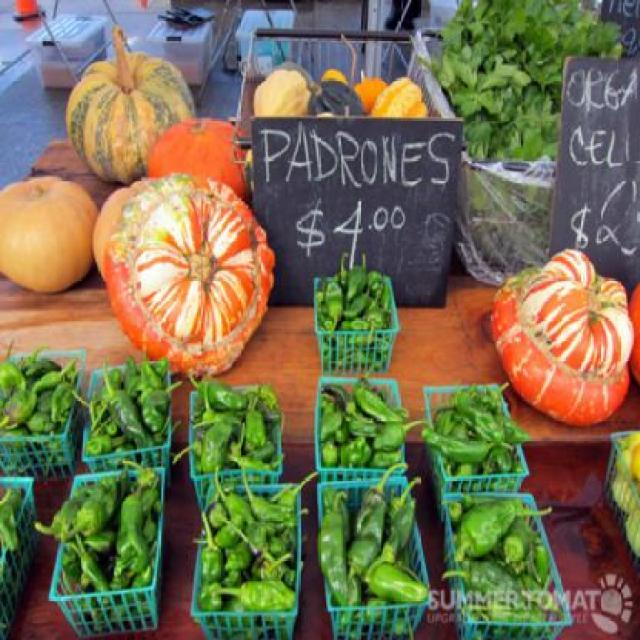Pumpkin: (93, 148, 261, 376), (492, 240, 632, 428), (66, 22, 202, 184), (0, 173, 97, 296), (250, 60, 428, 111), (148, 114, 246, 204), (96, 174, 144, 282), (630, 282, 638, 382)
